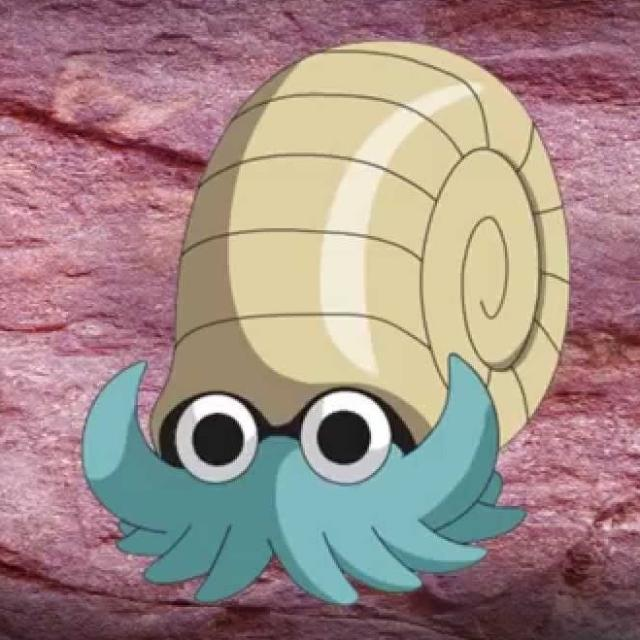Omanyte: (137, 36, 565, 608)
